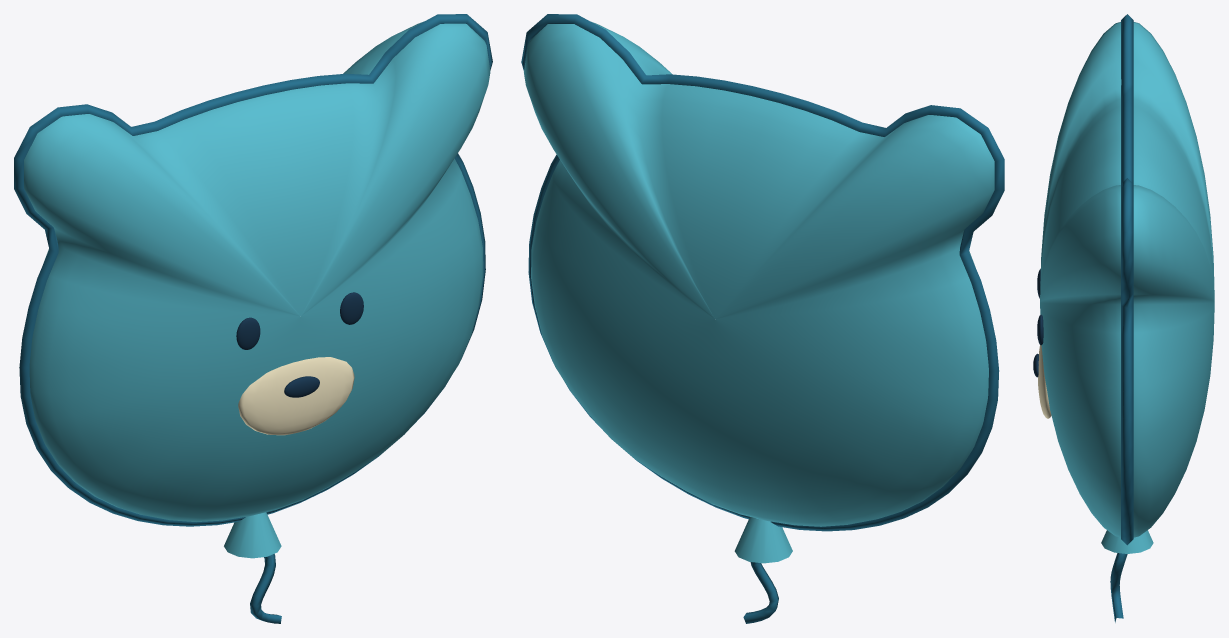
Rendered from balloon-bear.glb.
3 views of the same model, side by side, from view 1: azimuth 30°, elevation 25°; view 2: azimuth 150°, elevation 25°; view 3: azimuth 270°, elevation 25° (orthographic). The views are drawn at different scales.
Visible parts, largest first — view 1: balloon-bear; view 2: balloon-bear; view 3: balloon-bear.
Boxes of the visible parts, <box> form: balloon-bear: <box>14,14,492,623</box>; balloon-bear: <box>521,14,1004,623</box>; balloon-bear: <box>1033,14,1214,622</box>.
Size of the model in its own units: 0.8793 by 0.9929 by 0.3179.
